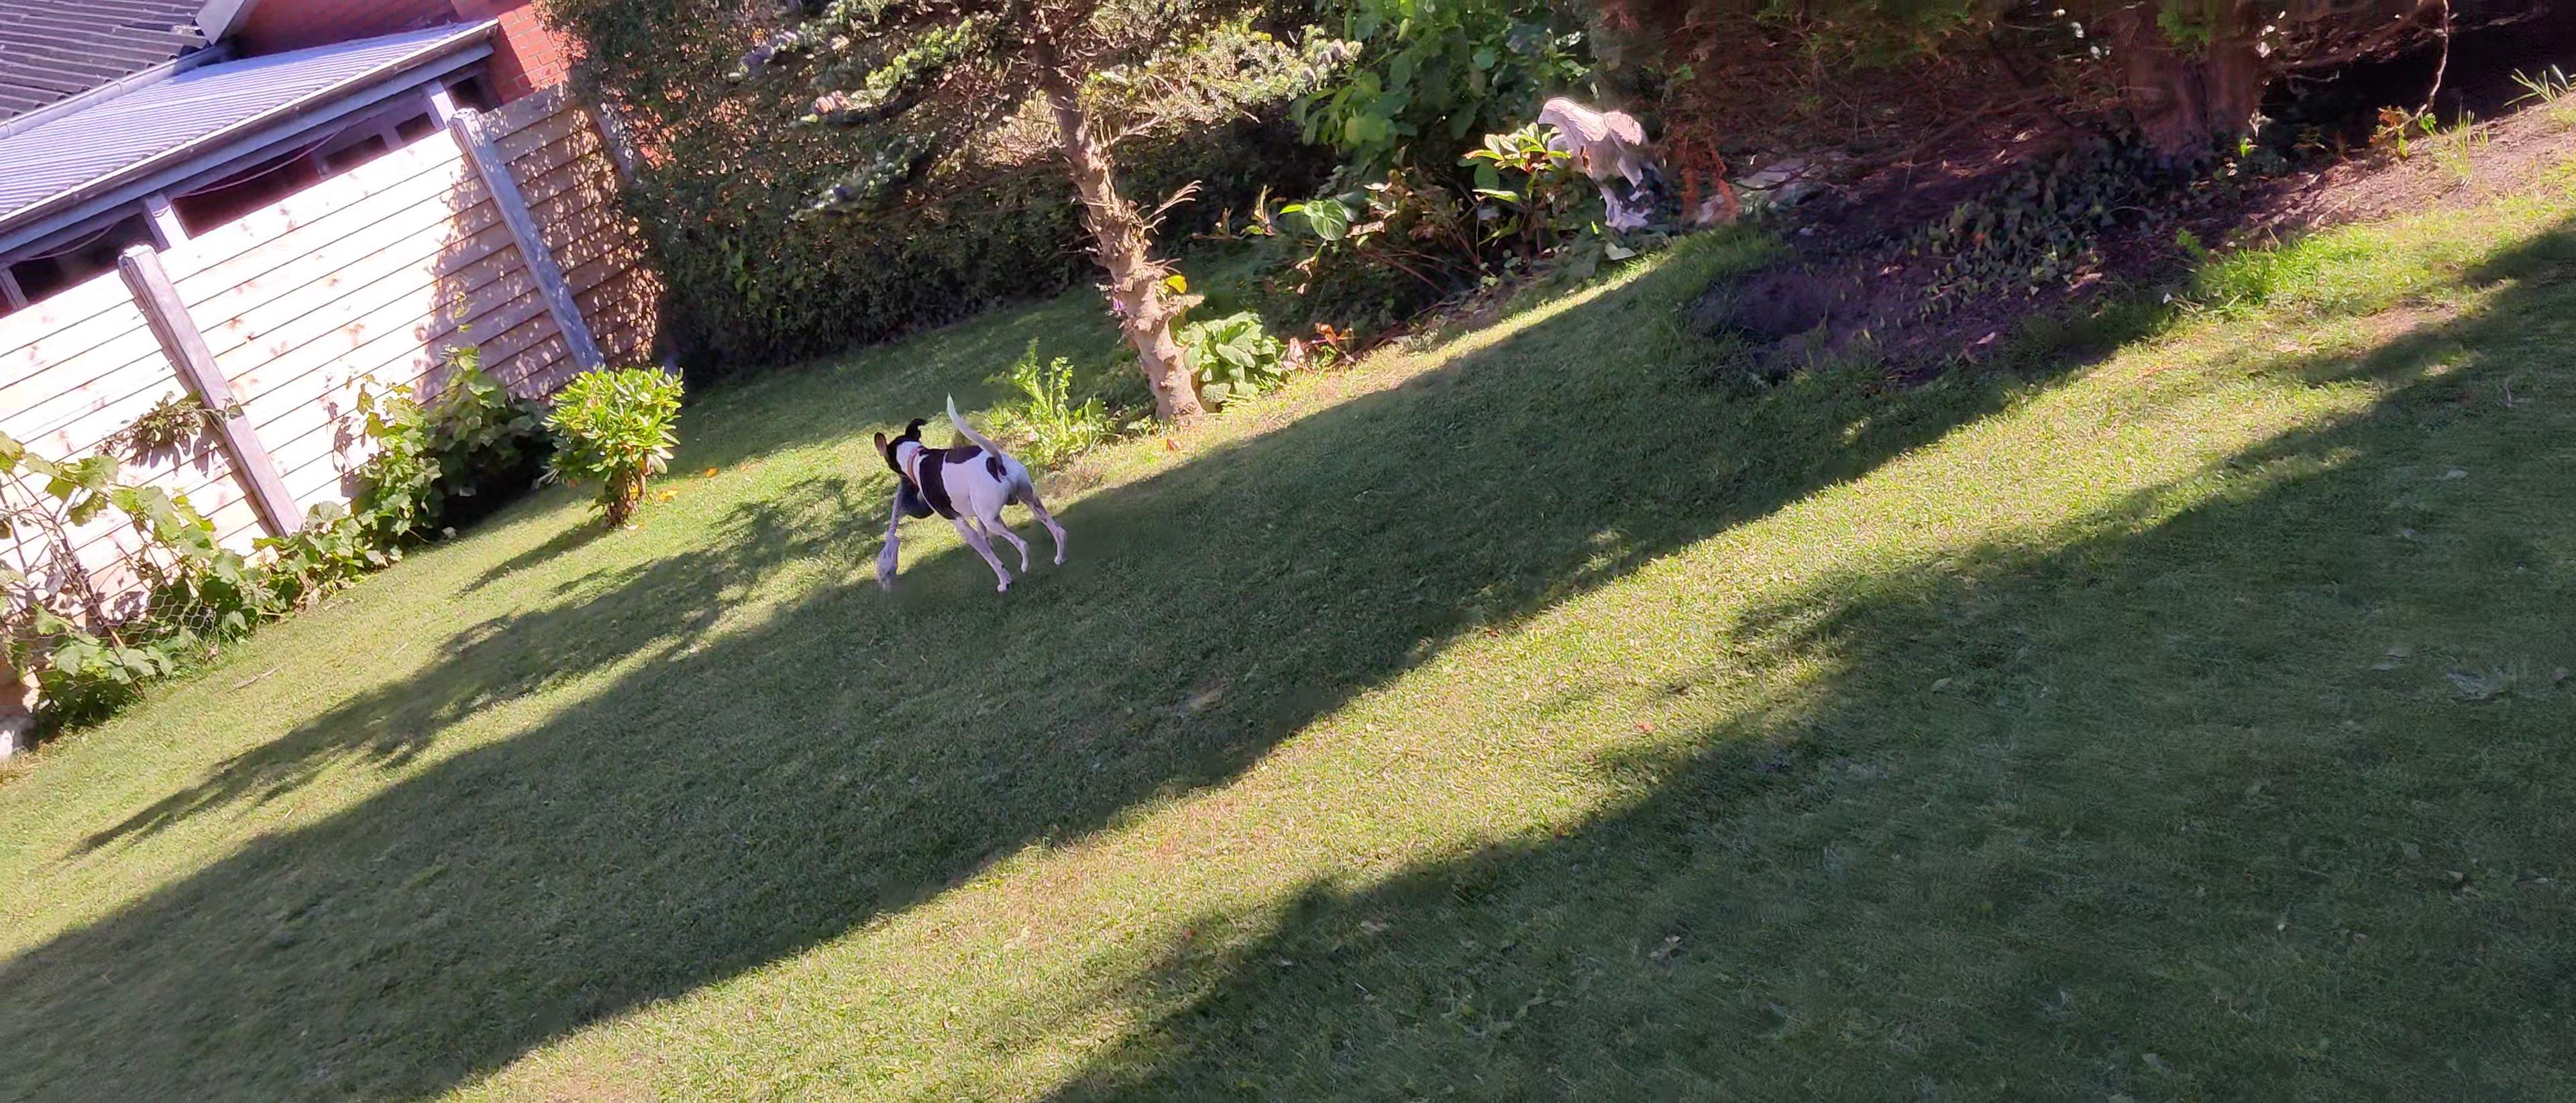Dog: (872, 388, 1071, 592)
